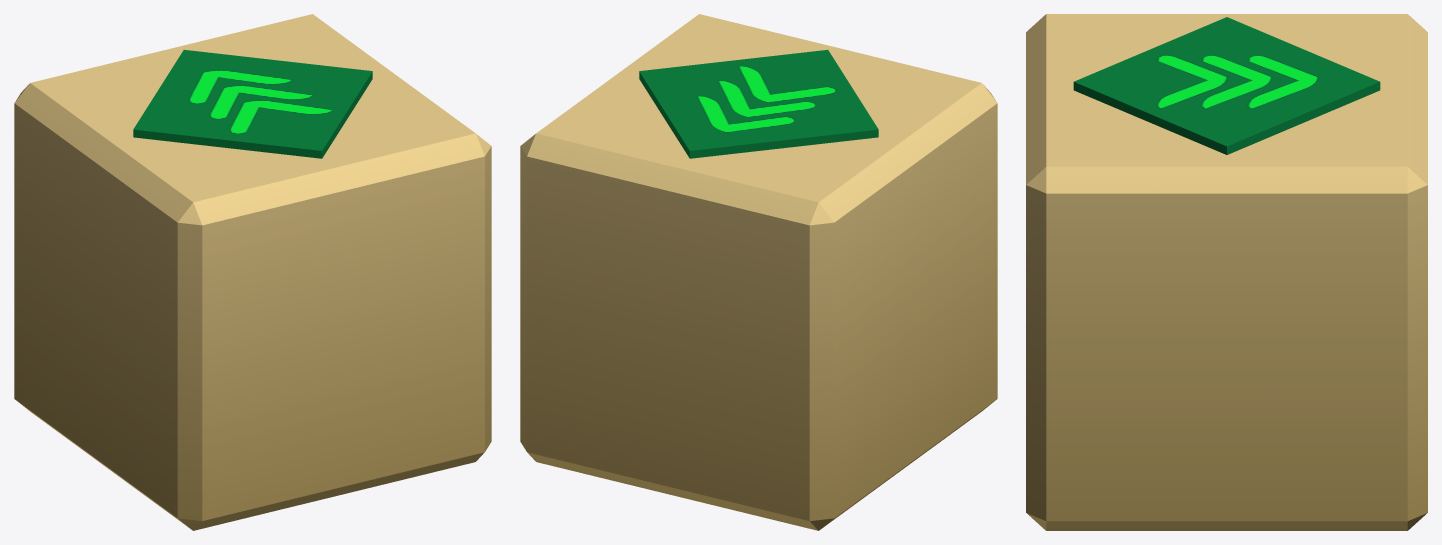
The model's file is Tile_Card_Buff_White.fbx.
The picture shows the model from 3 angles, left to right: view 1: azimuth 30°, elevation 25°; view 2: azimuth 150°, elevation 25°; view 3: azimuth 270°, elevation 25°; orthographic projection. The views are drawn at different scales.
Parts seen in each view (by area): view 1: Tile Putih Plate Buff; view 2: Tile Putih Plate Buff; view 3: Tile Putih Plate Buff.
Part boxes in pixels (bbox=[...]): Tile Putih Plate Buff: bbox=[14, 14, 491, 530]; Tile Putih Plate Buff: bbox=[520, 14, 997, 530]; Tile Putih Plate Buff: bbox=[1026, 14, 1427, 530].
Size of the model in its own units: 1 by 1.02 by 1.
1 material, 1 textured.
